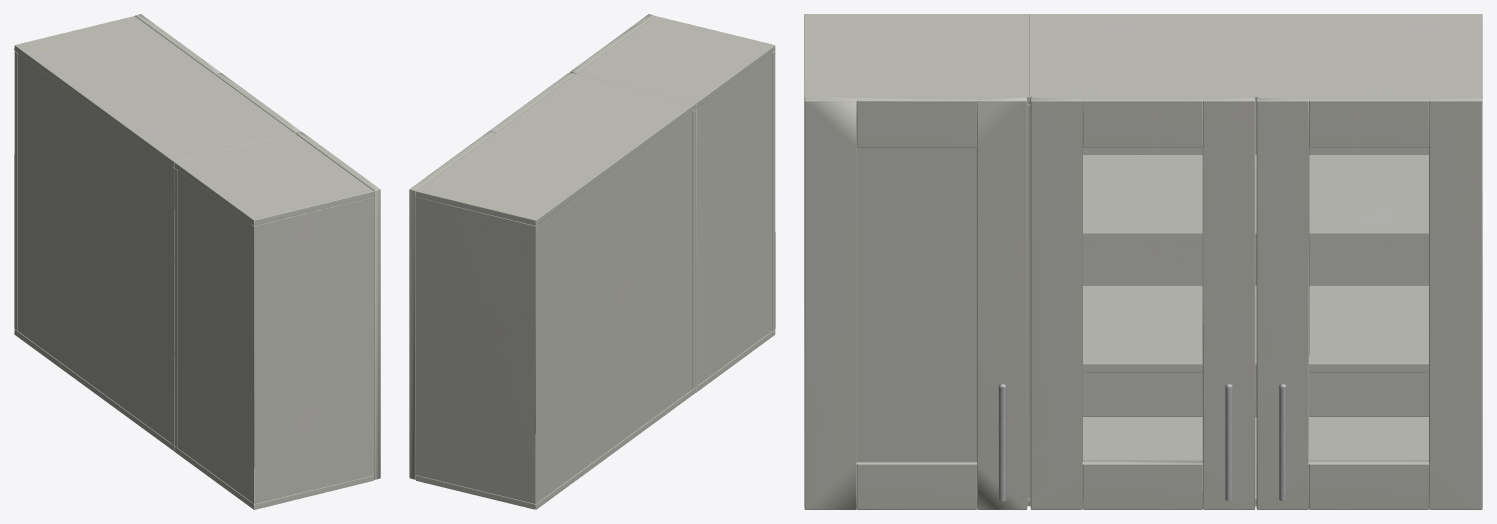
File: fixture_cabinet_d01.glb
3 renders of one model, left to right at view 1: azimuth 30°, elevation 25°; view 2: azimuth 150°, elevation 25°; view 3: azimuth 270°, elevation 25°, orthographic. The views are drawn at different scales.
Visible parts, largest first — view 1: sm_fixture_cabinet_d01_01; view 2: sm_fixture_cabinet_d01_01; view 3: sm_fixture_cabinet_d01_01.
Boxes of the visible parts, left/top/right/bottom form: sm_fixture_cabinet_d01_01: left=14, top=14, right=380, bottom=509; sm_fixture_cabinet_d01_01: left=409, top=14, right=775, bottom=509; sm_fixture_cabinet_d01_01: left=804, top=14, right=1482, bottom=509.
Bounding box in the file's own units: 0.3939 × 0.7636 × 1.14.
14 materials, 11 textured.
